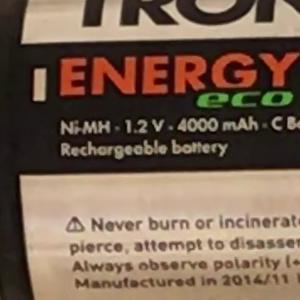NIMH: (52, 112, 107, 144)
